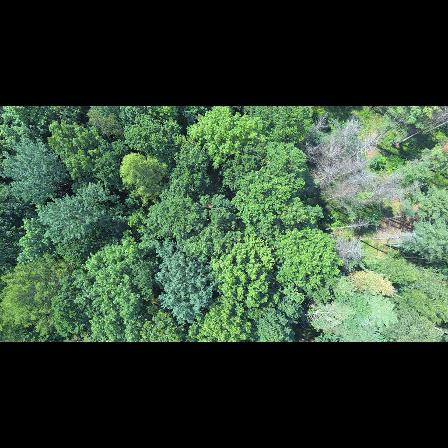Dead: (344, 119, 404, 165), (311, 123, 357, 161), (316, 147, 363, 182), (374, 180, 424, 205), (320, 180, 364, 204), (329, 240, 363, 271), (320, 217, 371, 235), (303, 116, 326, 146), (340, 171, 381, 187)
